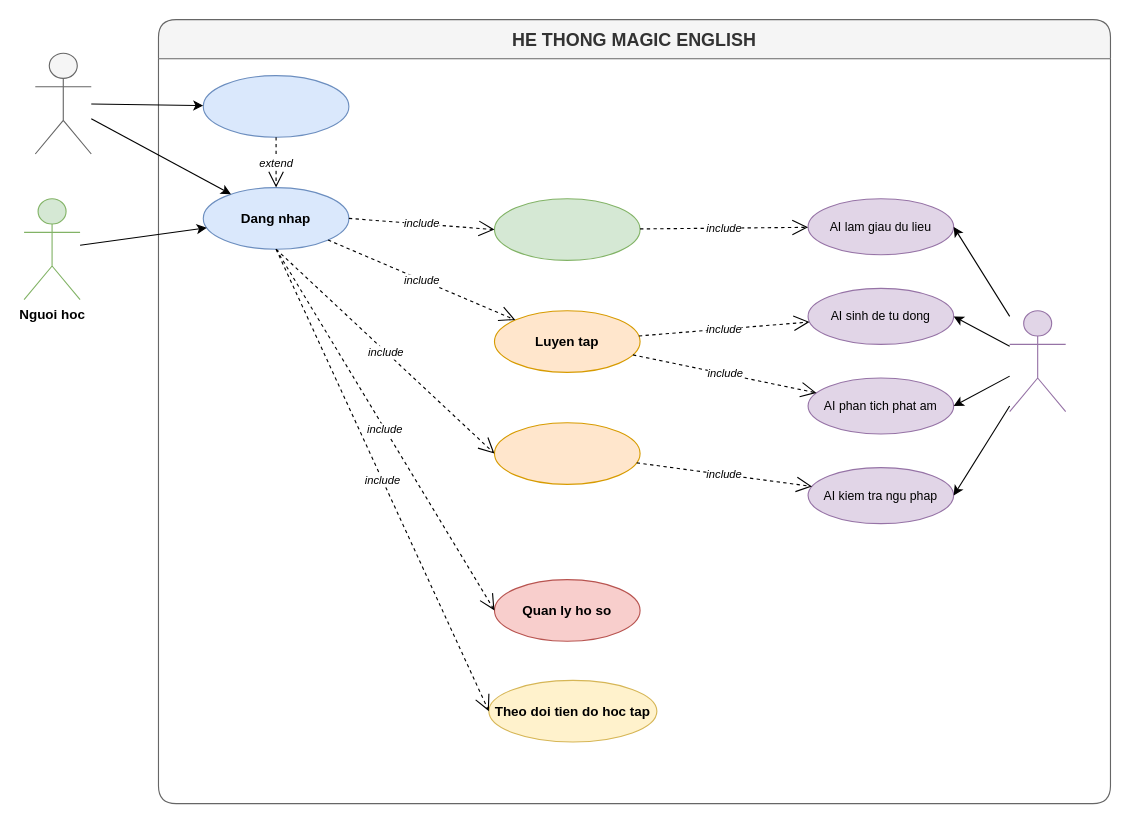
The diagram is 1130 pixels wide and 823 high, and some of its shapes have lost their labels. Here are the shapes that lost their labels. From the top down, the centre of each, then its label:
[62,103]: Khach
[275,105]: Dang ky
[566,229]: Quan ly tu vung
[1037,361]: AI System
[566,453]: Kiem tra ngu phap
